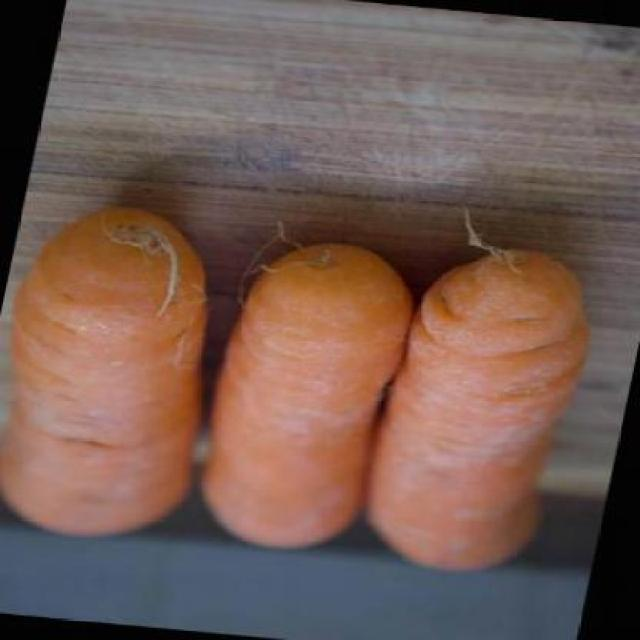carrot: (347, 236, 608, 579), (0, 197, 245, 546), (185, 230, 423, 556)
